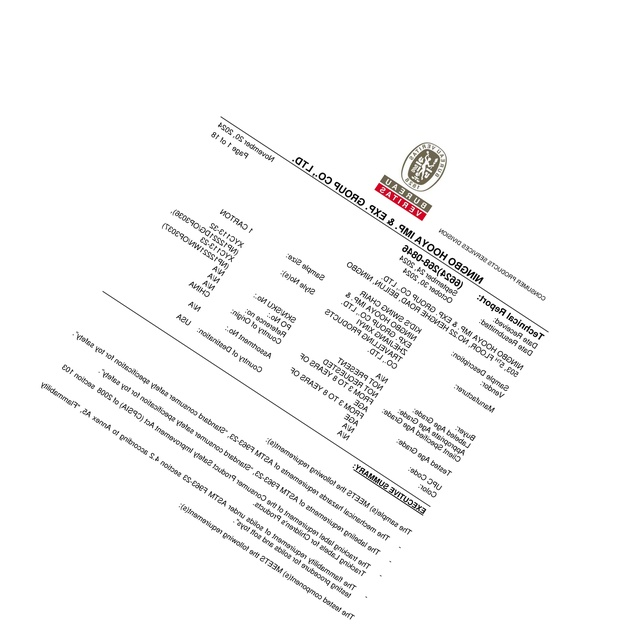bureau_veritas: (372, 136, 449, 226)
